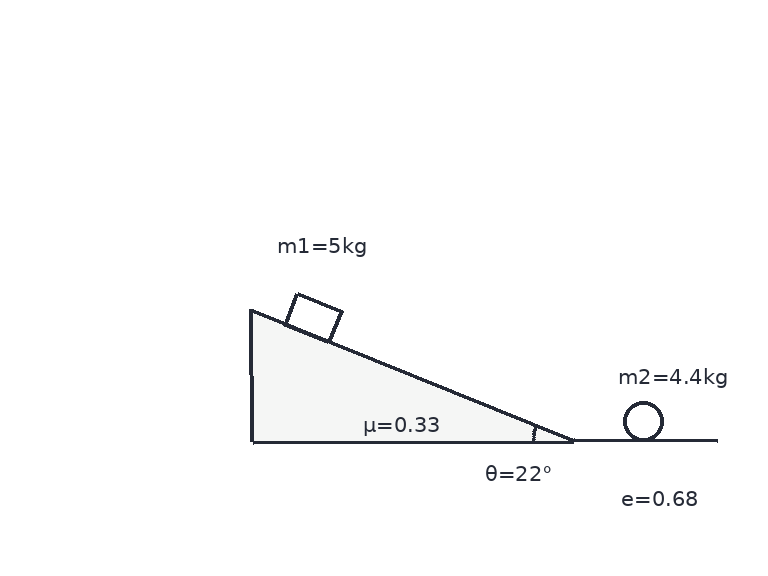ball: (621, 399, 665, 443)
block: (283, 291, 342, 344)
ramp: (249, 309, 575, 443)
